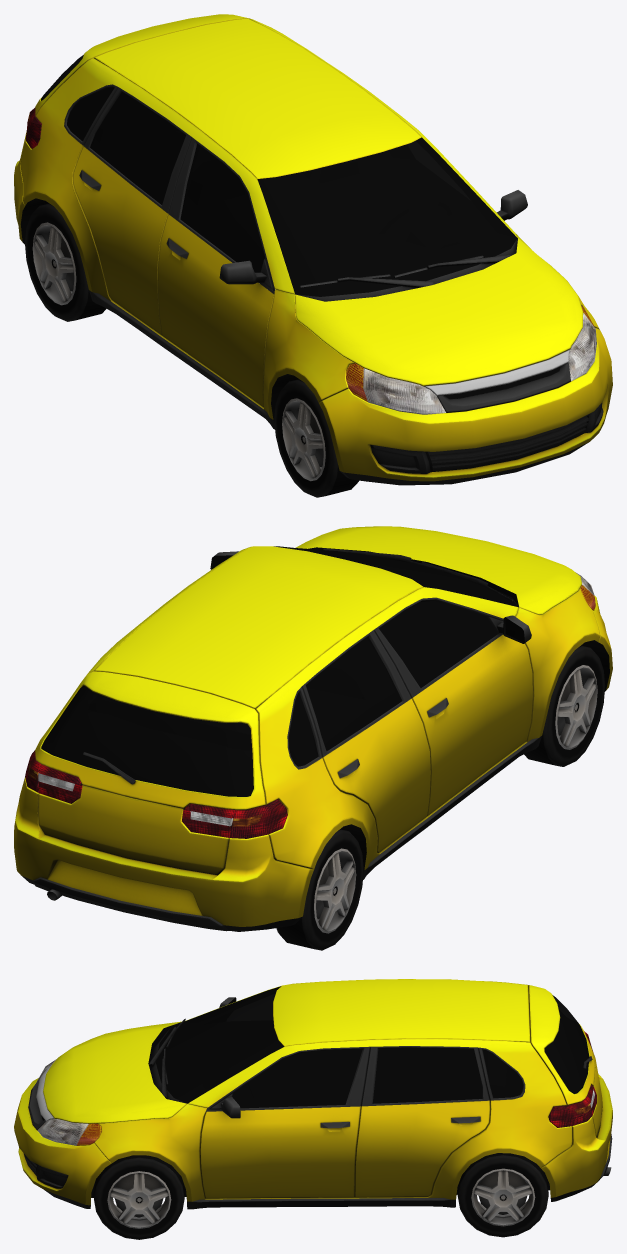
Rendered from car1.glb.
The picture shows the model from 3 angles, top to bottom: view 1: azimuth 30°, elevation 25°; view 2: azimuth 150°, elevation 25°; view 3: azimuth 270°, elevation 25°; orthographic projection. The views are drawn at different scales.
Visible parts, largest first — view 1: Hatchback Body, Wheel_B002, Wheel_B003; view 2: Hatchback Body, Wheel_B003, Wheel_B002; view 3: Hatchback Body, Wheel_B, Wheel_B001.
Part boxes in pixels (x1=…): Hatchback Body: x1=14, y1=14, x2=612, y2=485; Wheel_B002: x1=274, y1=379, x2=358, y2=497; Wheel_B003: x1=25, y1=203, x2=106, y2=321; Hatchback Body: x1=14, y1=526, x2=612, y2=931; Wheel_B003: x1=276, y1=829, x2=363, y2=950; Wheel_B002: x1=524, y1=645, x2=605, y2=766; Hatchback Body: x1=14, y1=979, x2=612, y2=1209; Wheel_B: x1=93, y1=1155, x2=184, y2=1239; Wheel_B001: x1=457, y1=1153, x2=548, y2=1237.
Bounding box in the file's own units: 1.74 × 1.35 × 3.96.
Materials: 4 (3 with a texture image).
